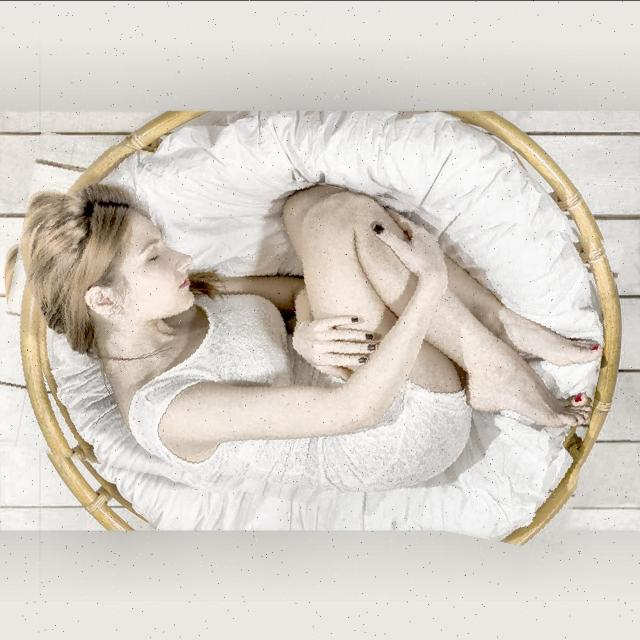Not_Supine: (21, 184, 602, 493)
